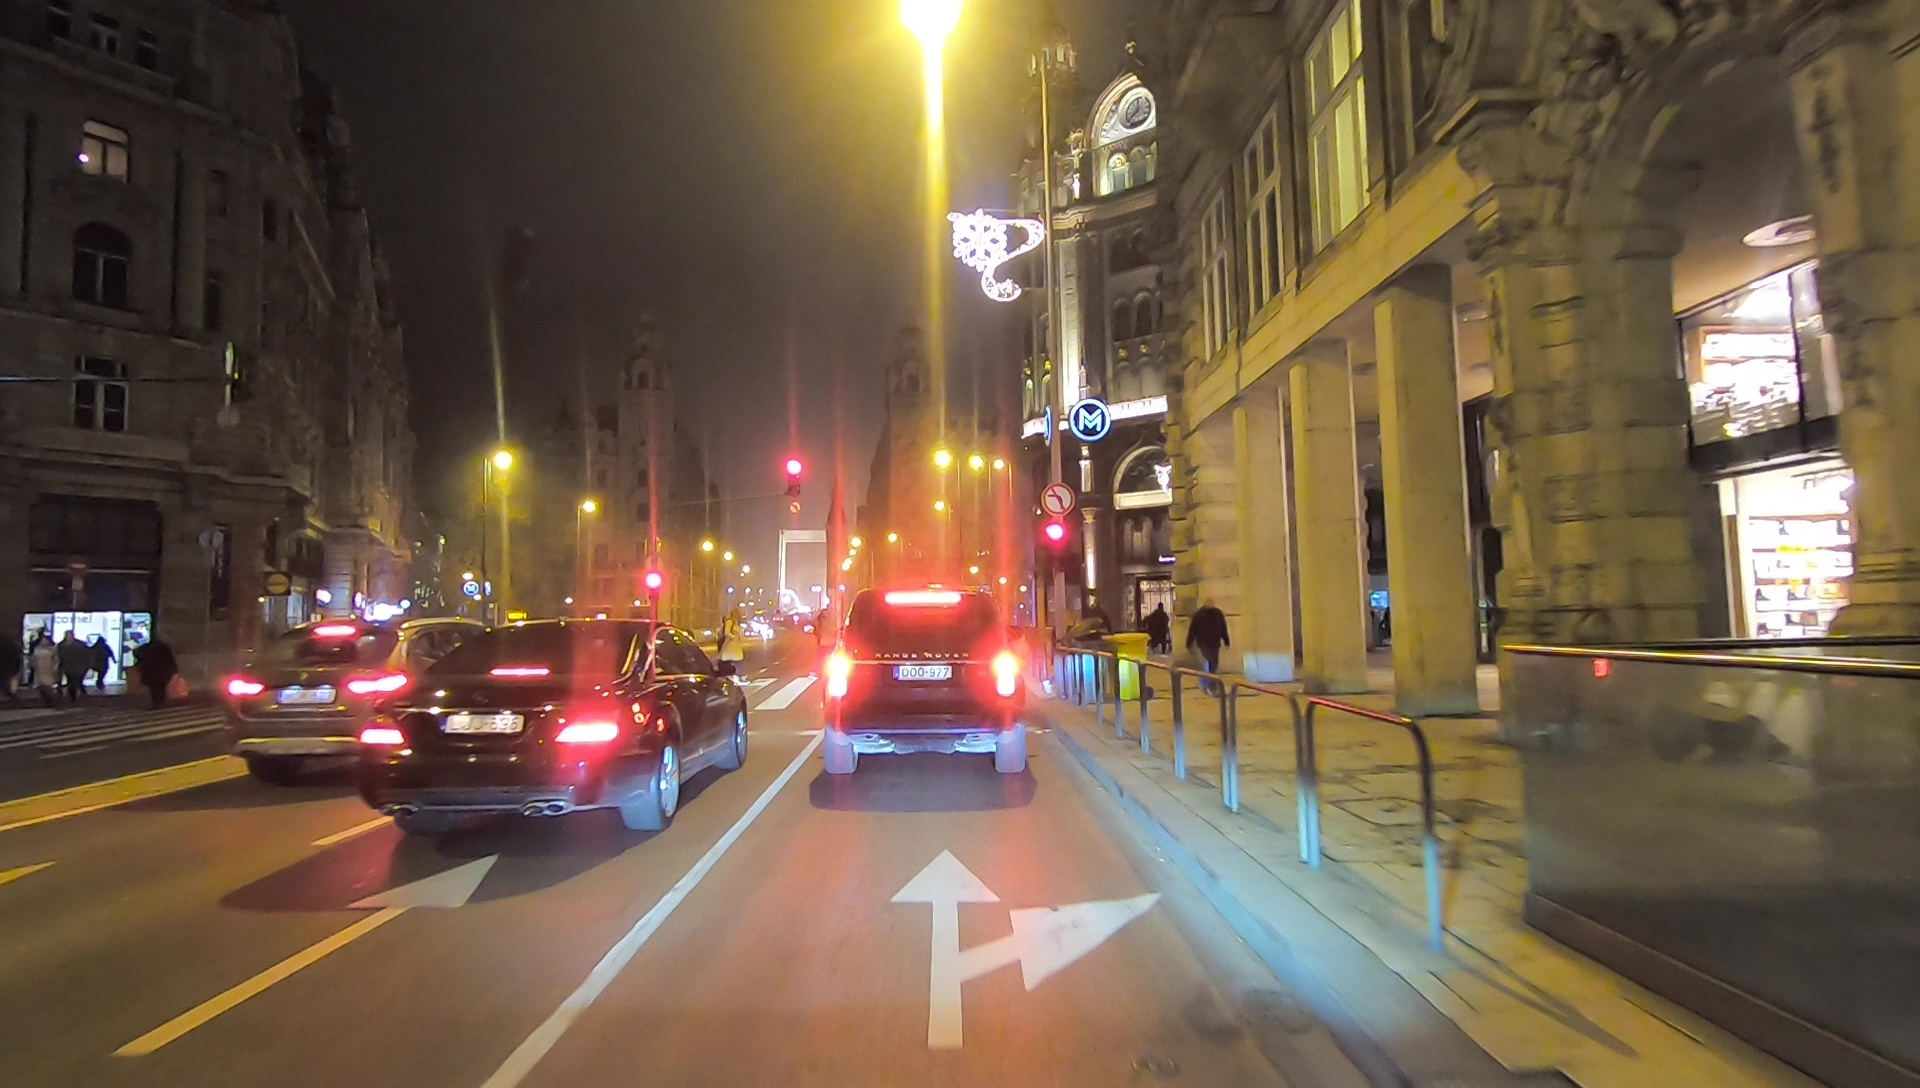person: (1187, 596, 1227, 693), (134, 635, 176, 703), (717, 608, 745, 686), (32, 635, 59, 704), (59, 629, 86, 698), (86, 635, 116, 689), (1147, 601, 1170, 658)
